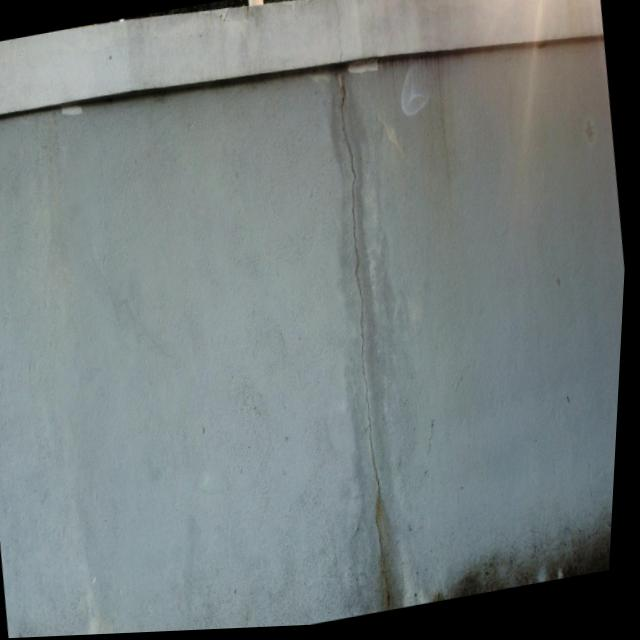Crack: (292, 65, 450, 622)
